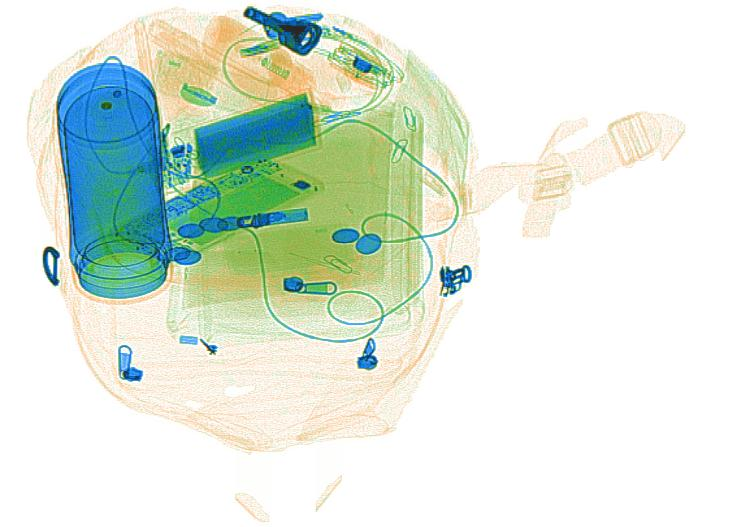plasticBottleWithaNozzle: (203, 14, 323, 95)
